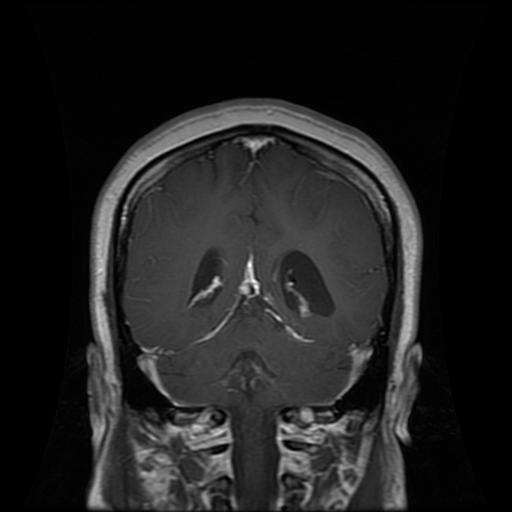Gliomia_tumour: (276, 247, 332, 315)
